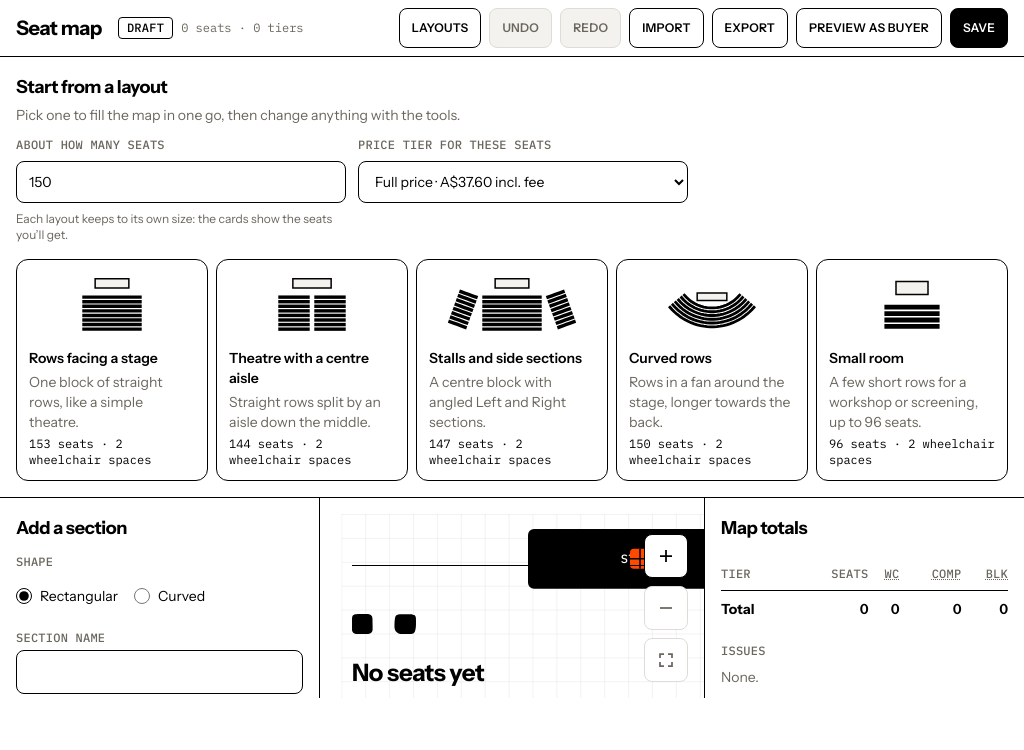
Test: Start from a layout (seat-map editor, §5.13) › Preview as buyer hides the picker and its button
Click the button "Rows facing a stage" at x=112, y=370, box top-left (16, 259), bottom-right (208, 481)
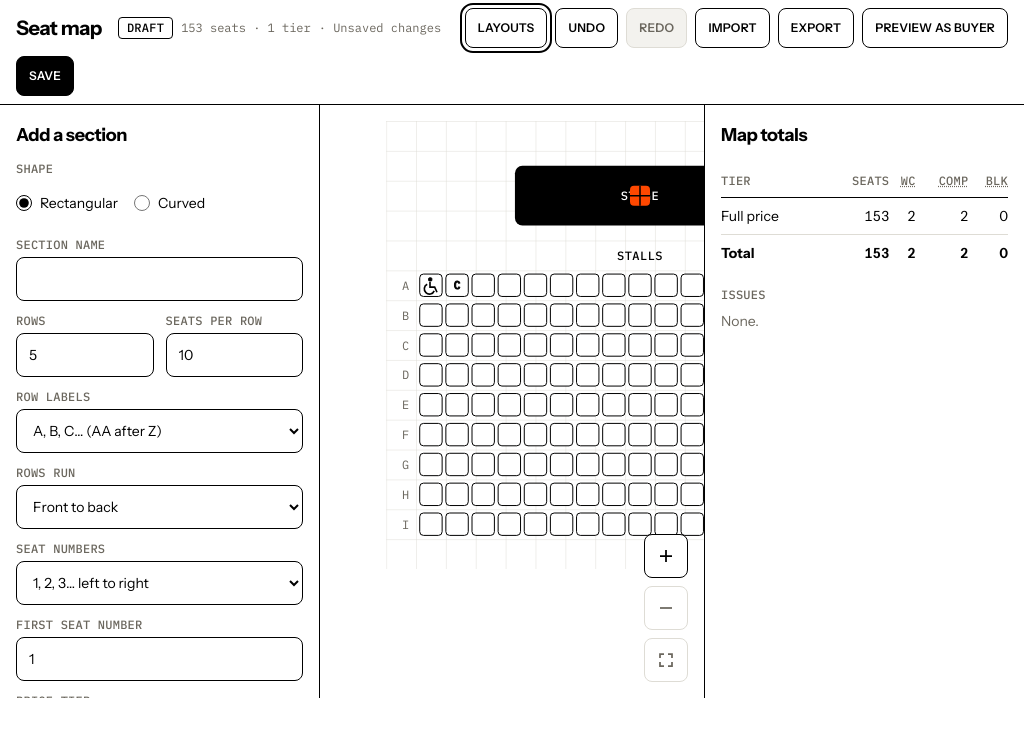
Click the button "Preview as buyer" at x=935, y=28, box top-left (862, 8), bottom-right (1008, 48)
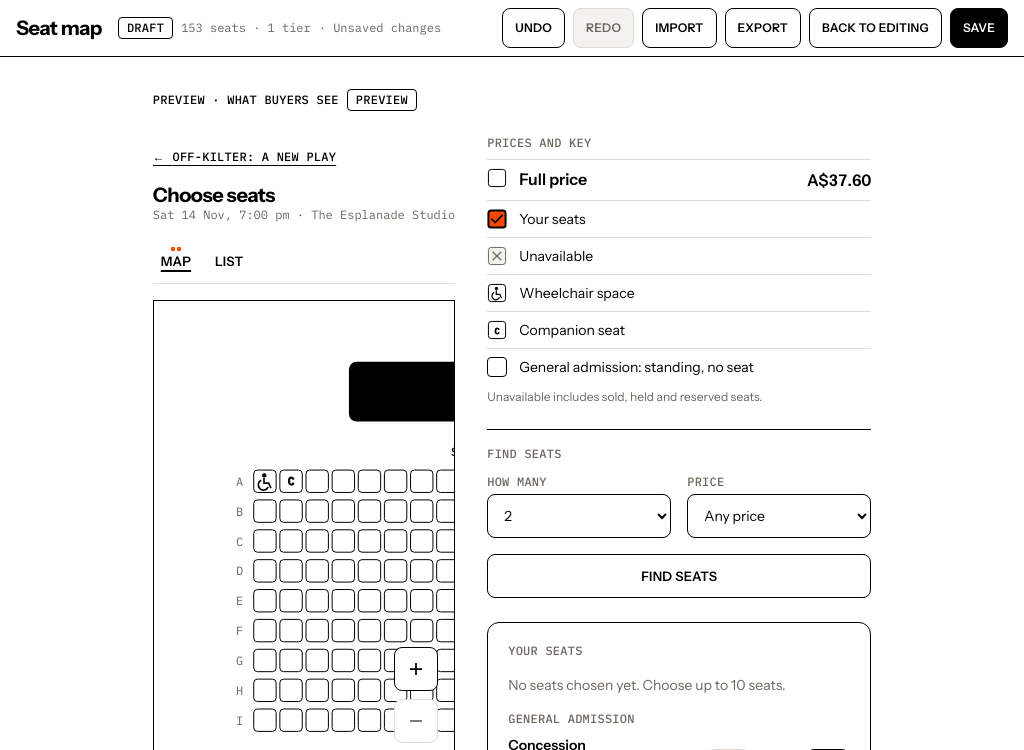
Expected: the heading "Start from a layout" is not shown
Expected: the button "Layouts" is gone
